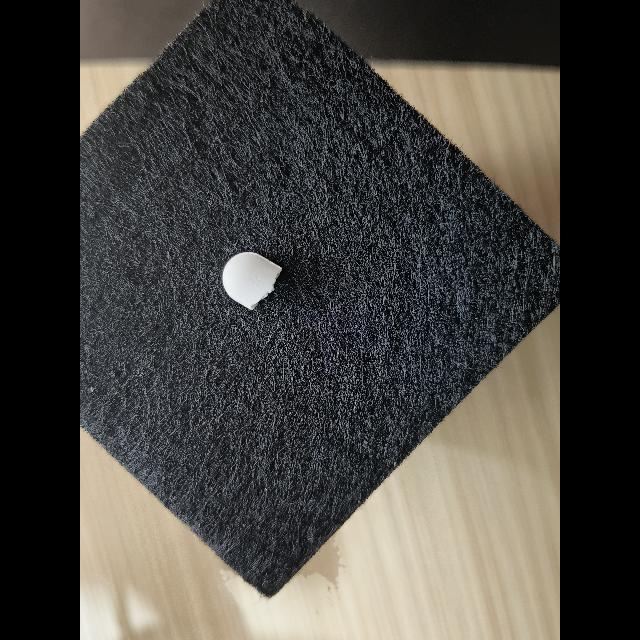Chipped Pill: (223, 252, 282, 310)
